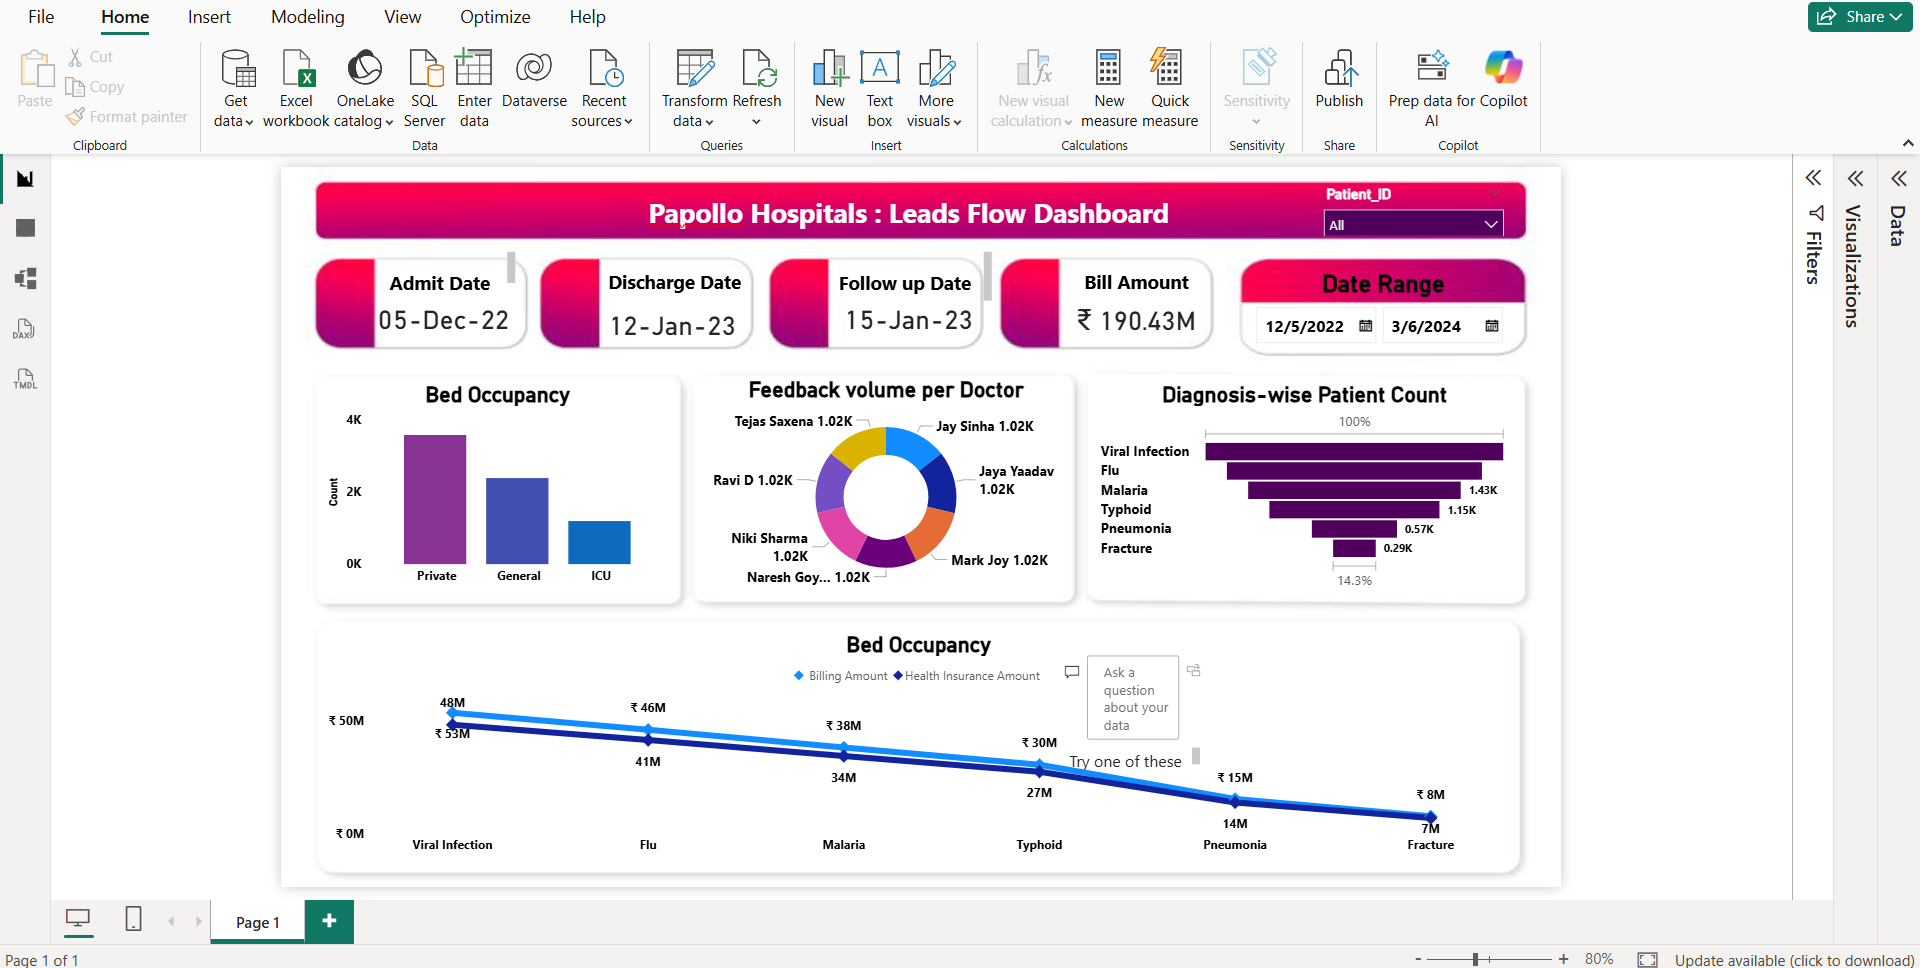

Layout of this report page (visuals, bound fields, positions):
{"tool":"powerbi","page":{"name":"Page 1","canvas":[1280,720],"ordinal":0},"visuals":[{"type":"textbox","box":[30.2,22.9,1195.6,76],"z":0},{"type":"slicer","fields":{"Values":["Sheet1.Patient_ID"]},"box":[1032.7,13.3,200.3,55.5],"z":1},{"type":"card","fields":{"Values":["Min(Sheet1.Admit_Date)"]},"box":[86.9,98.9,153.2,105],"z":2},{"type":"textbox","box":[716.6,79.6,278.7,105],"z":3},{"type":"textbox","box":[539.3,79.6,177.3,63.9],"z":4},{"type":"textbox","box":[289.5,79.6,207.5,73.6],"z":5},{"type":"card","fields":{"Values":["Min(Sheet1.Followup Date)"]},"box":[551.3,98.9,153.2,105],"z":6},{"type":"card","fields":{"Values":["Min(Sheet1.Discharge_Date)"]},"box":[314.9,105,153.2,105],"z":7},{"type":"card","fields":{"Values":["Sum(Sheet1.Billing Amount)"]},"box":[779.4,100.1,153.2,105],"z":8},{"type":"textbox","box":[86.9,79.6,153.2,53.1],"z":9},{"type":"qnaVisual","box":[774.5,463.9,153.2,150],"z":10},{"type":"slicer","title":"Date Range","fields":{"Values":["Sheet1.Admit_Date"]},"box":[962.7,102.5,279.9,82],"z":11},{"type":"columnChart","title":" Bed Occupancy ","fields":{"Category":["Sheet1.Bed_Occupancy"],"Y":["CountNonNull(Sheet1.Bed_Occupancy)"]},"box":[42.2,214.7,348.7,212.3],"z":12},{"type":"donutChart","title":" Feedback volume per Doctor ","fields":{"Category":["Sheet1.Doctor"],"Y":["CountNonNull(Sheet1.Doctor)"]},"box":[419.8,209.9,370.4,217.2],"z":13},{"type":"funnel","title":"Diagnosis-wise Patient Count","fields":{"Category":["Sheet1.Diagnosis"],"Y":["CountNonNull(Sheet1.Diagnosis)"]},"box":[815.6,214.7,417.4,212.3],"z":14},{"type":"lineChart","title":"Bed Occupancy","fields":{"Y":["Sum(Sheet1.Billing Amount)","Sum(Sheet1.Health Insurance Amount)"],"Category":["Sheet1.Diagnosis"]},"box":[42.2,464.5,1190.8,231.6],"z":15}]}

Visuals, with their boxes on the page's 1280x720 design canvas (x1, y1, x2, y2). These are canvas units, not pixel positions in the 1920x968 screenshot, which may show the page scaled, cropped or inside an application window:
textbox: {"left": 30, "top": 23, "right": 1226, "bottom": 99}
slicer - Sheet1.Patient_ID: {"left": 1033, "top": 13, "right": 1233, "bottom": 69}
card - Min(Sheet1.Admit_Date): {"left": 87, "top": 99, "right": 240, "bottom": 204}
textbox: {"left": 717, "top": 80, "right": 995, "bottom": 185}
textbox: {"left": 539, "top": 80, "right": 717, "bottom": 144}
textbox: {"left": 290, "top": 80, "right": 497, "bottom": 153}
card - Min(Sheet1.Followup Date): {"left": 551, "top": 99, "right": 704, "bottom": 204}
card - Min(Sheet1.Discharge_Date): {"left": 315, "top": 105, "right": 468, "bottom": 210}
card - Sum(Sheet1.Billing Amount): {"left": 779, "top": 100, "right": 933, "bottom": 205}
textbox: {"left": 87, "top": 80, "right": 240, "bottom": 133}
qnaVisual: {"left": 774, "top": 464, "right": 928, "bottom": 614}
"Date Range" slicer: {"left": 963, "top": 102, "right": 1243, "bottom": 184}
" Bed Occupancy " columnChart: {"left": 42, "top": 215, "right": 391, "bottom": 427}
" Feedback volume per Doctor " donutChart: {"left": 420, "top": 210, "right": 790, "bottom": 427}
"Diagnosis-wise Patient Count" funnel: {"left": 816, "top": 215, "right": 1233, "bottom": 427}
"Bed Occupancy" lineChart: {"left": 42, "top": 464, "right": 1233, "bottom": 696}
